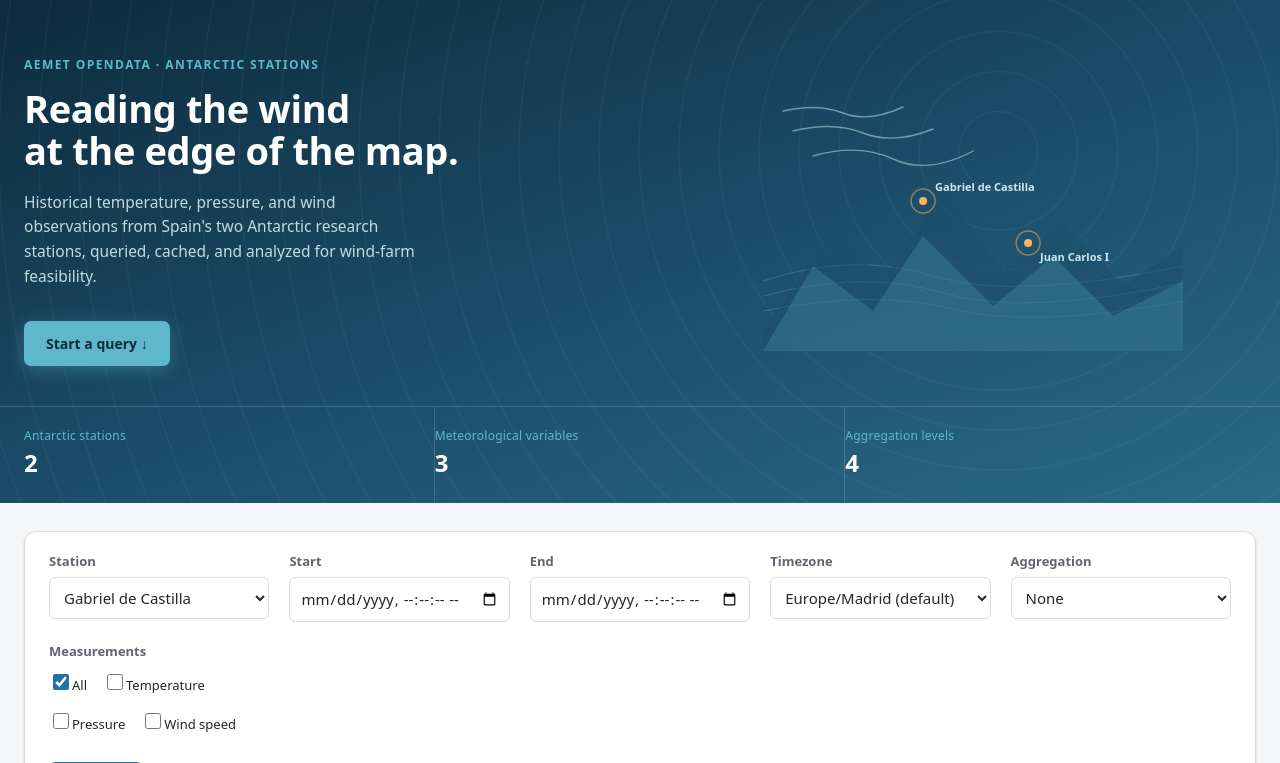
Test: App › shows an empty-state message when the query returns no observations
Type "2024-01-15T00:00:00" into the field labelled "Start". click: (400, 600)
box: left=289, top=577, right=510, bottom=622
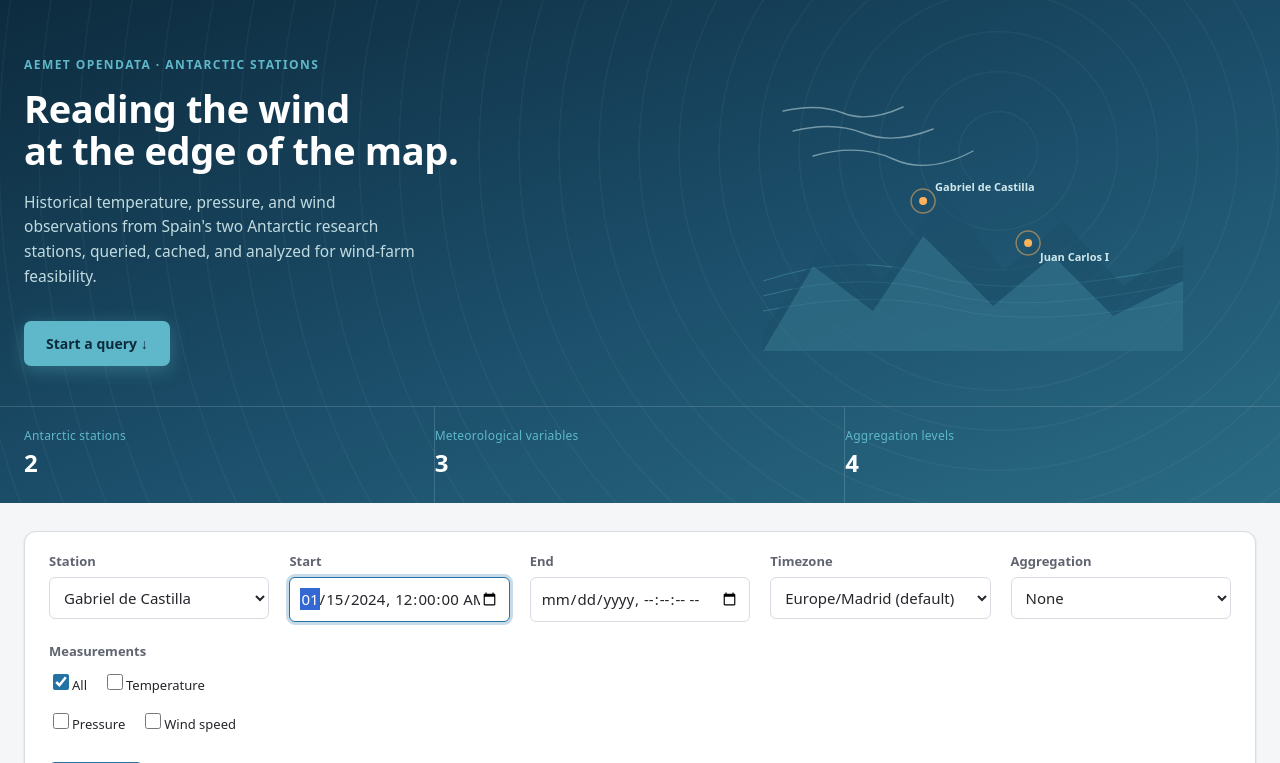
Type "2024-01-15T06:00:00" into the field labelled "End". click: (640, 600)
box: left=530, top=577, right=750, bottom=622
(page scrolled)
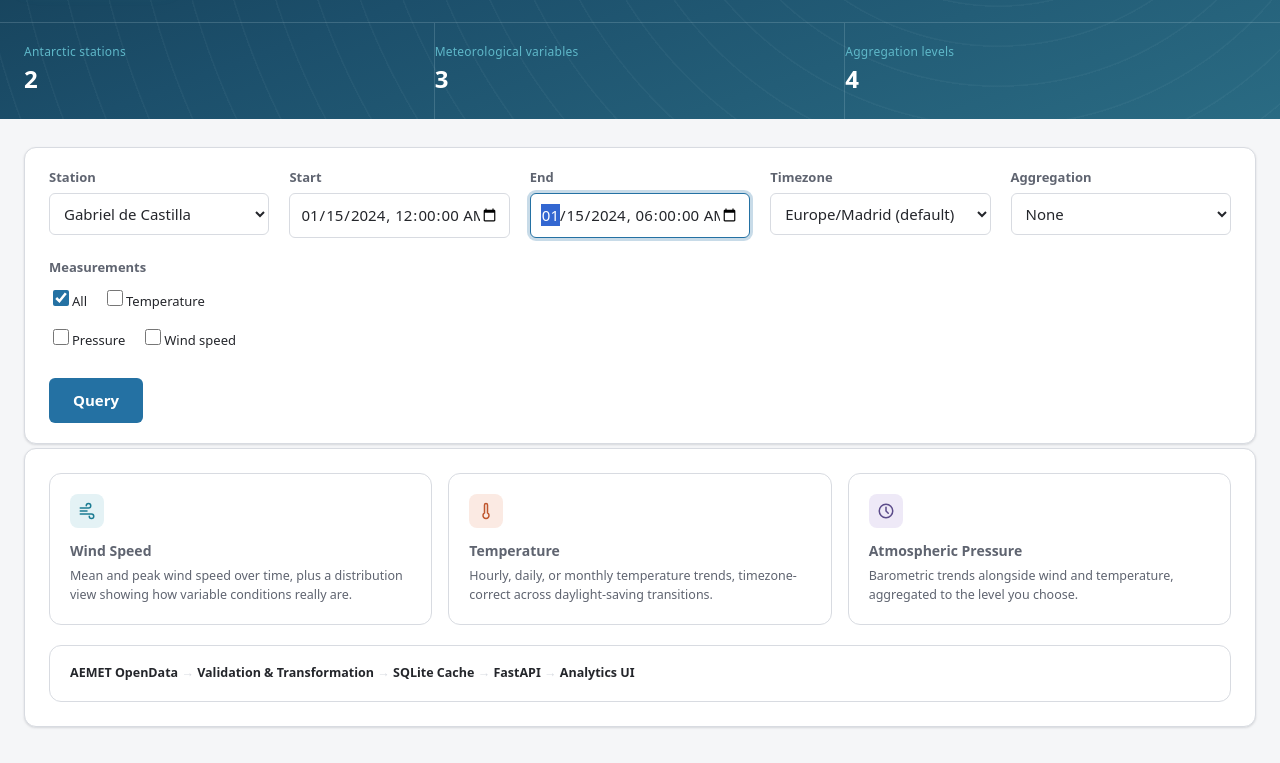
Click the button "Query". click: (96, 401)
box: left=49, top=378, right=143, bottom=423
(page scrolled)
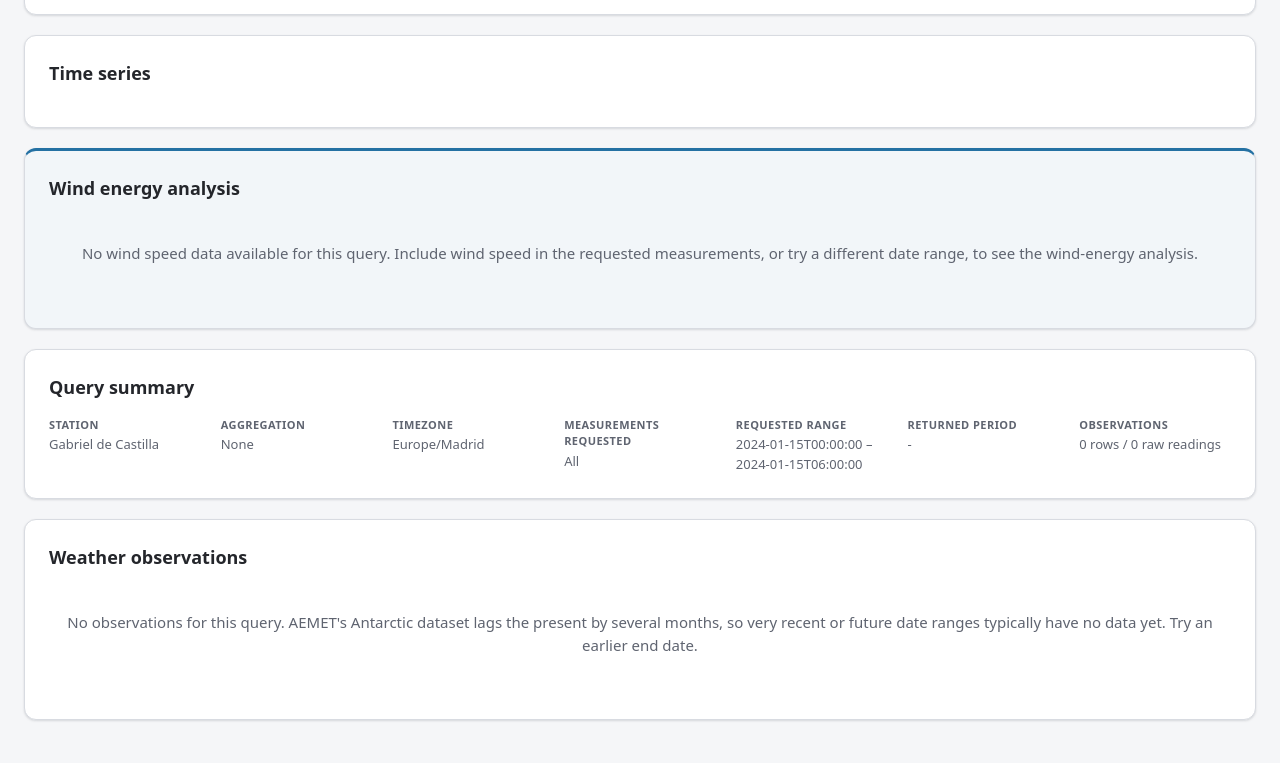
Now the text "No observations for this query" is shown, box left=67, top=612, right=1213, bottom=654
